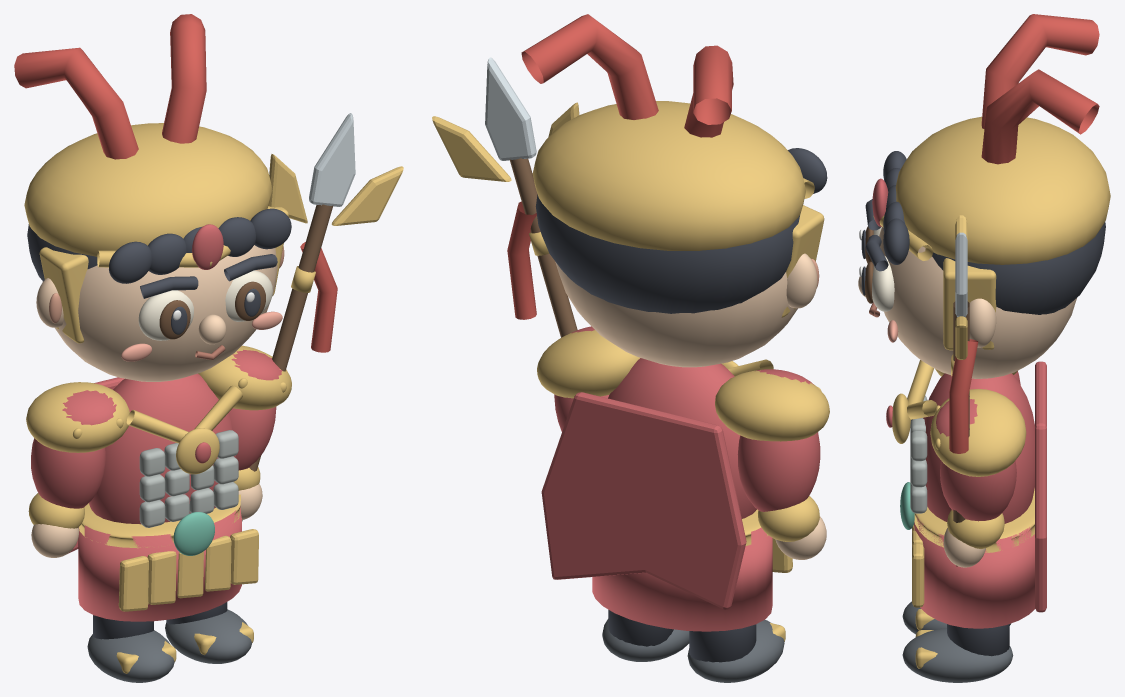
Rendered from lvbu.fbx.
3 renders of one model, left to right at view 1: azimuth 30°, elevation 25°; view 2: azimuth 150°, elevation 25°; view 3: azimuth 270°, elevation 25°, orthographic. The views are drawn at different scales.
Visible parts, largest first — view 1: helmet, face, body, robe_skirt, plume, plume.001, shoulder_gold.001, sleeve.001, boot, boot.001, spear_tip, shoulder_gold (+42 smaller); view 2: cape, helmet, hair_mass, face, robe_skirt, shoulder_gold.001, plume.001, body, sleeve.001, shoulder_gold, plume, spear_tip (+12 smaller); view 3: helmet, face, robe_skirt, hair_mass, plume.001, shoulder_gold, plume, body, boot.001, sleeve, cape, cheek_guard.001 (+23 smaller).
Part boxes in pixels (left/top/right/bottom): helmet: left=24, top=123, right=272, bottom=256; face: left=42, top=245, right=277, bottom=381; body: left=89, top=373, right=235, bottom=524; robe_skirt: left=78, top=506, right=241, bottom=621; plume: left=14, top=47, right=138, bottom=159; plume.001: left=162, top=14, right=206, bottom=143; shoulder_gold.001: left=26, top=382, right=129, bottom=452; sleeve.001: left=31, top=438, right=105, bottom=508; boot: left=87, top=630, right=174, bottom=682; boot.001: left=165, top=609, right=251, bottom=663; spear_tip: left=309, top=113, right=355, bottom=206; shoulder_gold: left=198, top=345, right=291, bottom=410; cape: left=541, top=392, right=746, bottom=609; helmet: left=532, top=101, right=805, bottom=250; hair_mass: left=535, top=194, right=799, bottom=313; face: left=555, top=262, right=797, bottom=367; robe_skirt: left=592, top=527, right=772, bottom=631; shoulder_gold.001: left=715, top=370, right=829, bottom=441; plume.001: left=521, top=14, right=658, bottom=119; body: left=608, top=358, right=756, bottom=518; sleeve.001: left=737, top=432, right=820, bottom=511; shoulder_gold: left=537, top=330, right=639, bottom=398; plume: left=684, top=45, right=733, bottom=137; spear_tip: left=485, top=57, right=536, bottom=160; helmet: left=895, top=116, right=1110, bottom=264; face: left=879, top=227, right=1076, bottom=378; robe_skirt: left=914, top=515, right=1035, bottom=628; hair_mass: left=932, top=221, right=1105, bottom=314; plume.001: left=981, top=69, right=1099, bottom=164; shoulder_gold: left=930, top=388, right=1026, bottom=476; plume: left=981, top=14, right=1099, bottom=128; body: left=923, top=373, right=1034, bottom=523; boot.001: left=902, top=628, right=1013, bottom=682; sleeve: left=940, top=460, right=1016, bottom=521; cape: left=1035, top=361, right=1046, bottom=612; cheek_guard.001: left=943, top=258, right=996, bottom=350.
Bounding box in the file's own units: 1.78 × 2.82 × 1.05.
